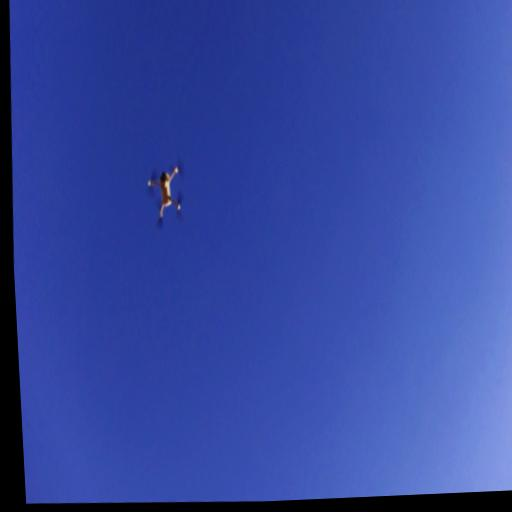drones: (141, 150, 190, 235)
